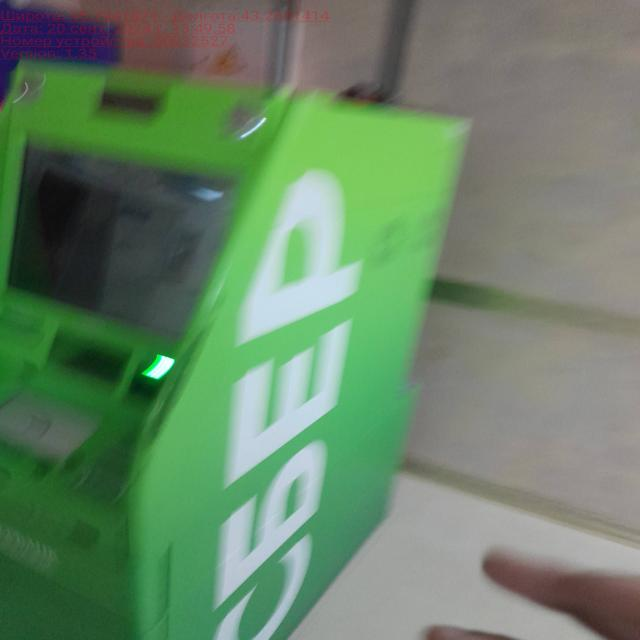bank: (0, 55, 461, 640)
